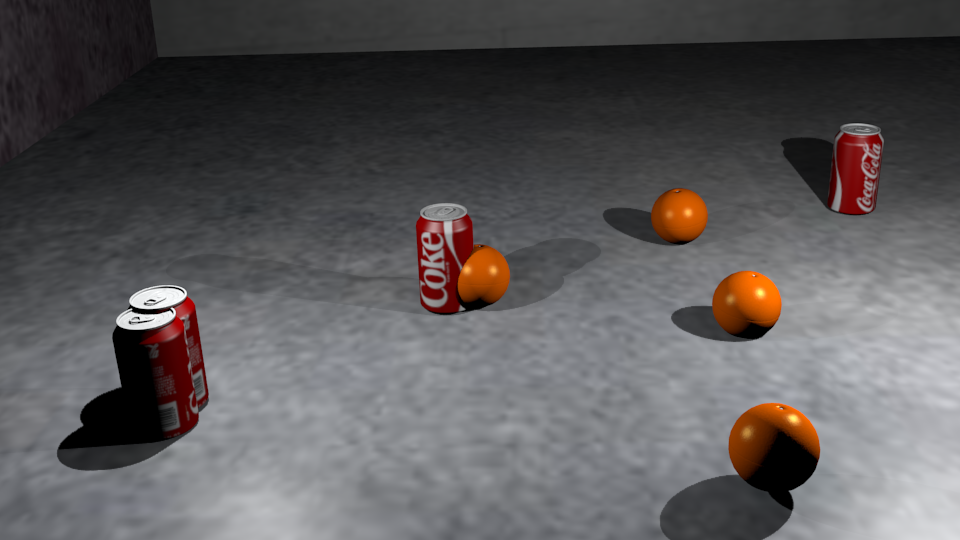cola_can: (117, 305, 199, 435), (130, 286, 209, 412), (416, 204, 476, 313), (831, 124, 884, 214)
orange: (729, 403, 821, 473), (713, 271, 782, 330), (447, 245, 511, 301), (652, 189, 708, 240)
